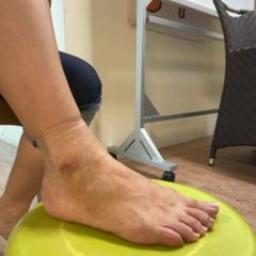Lateral View -Right Foot-: (22, 112, 230, 253)
